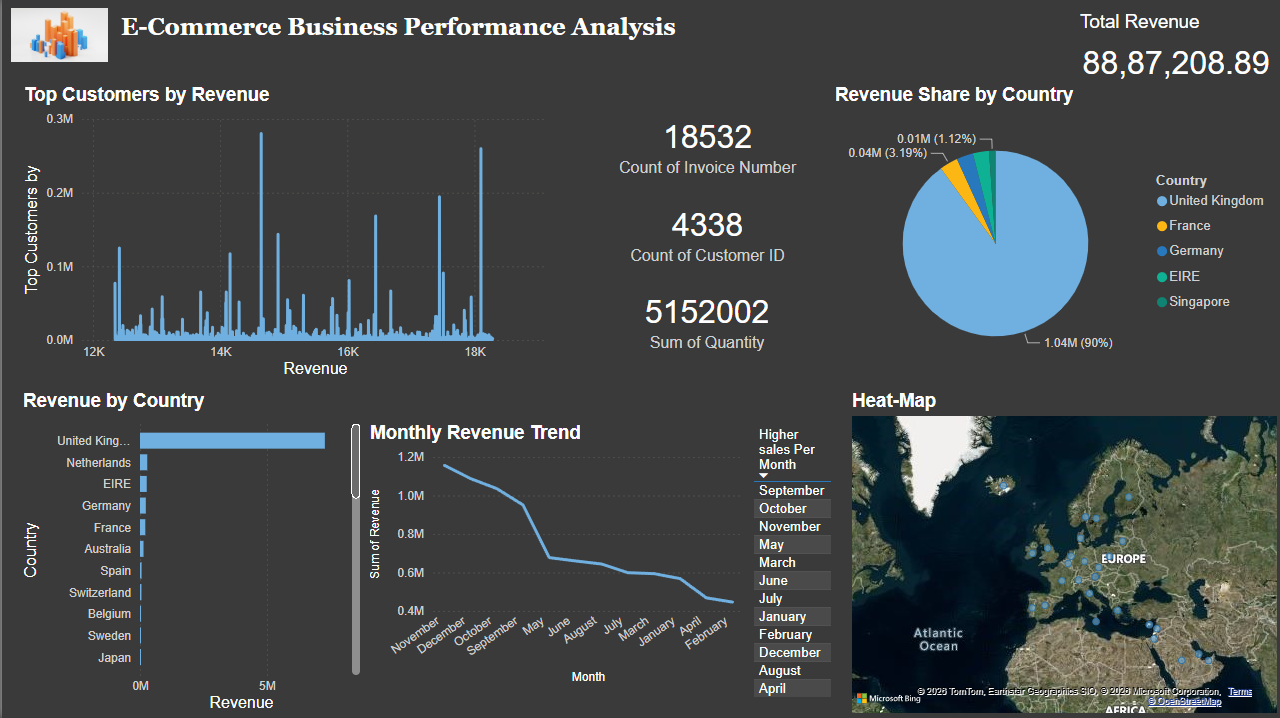

The page's visual inventory and layout, read from the dashboard file:
{"tool":"powerbi","page":{"name":"Executive Dashboard","canvas":[1280,720],"ordinal":0},"visuals":[{"type":"card","title":"Total Revenue","fields":{"Values":["Sum(4fba592e-3920-4f96-b9f4-a4c79be.Revenue)"]},"box":[1072.5,12.5,202.5,97.5],"z":0},{"type":"clusteredBarChart","fields":{"Category":["4fba592e-3920-4f96-b9f4-a4c79be.Country"],"Y":["Sum(4fba592e-3920-4f96-b9f4-a4c79be.Revenue)"]},"box":[16.3,392.1,346.8,325.8],"z":1000},{"type":"tableEx","fields":{"Values":["4fba592e-3920-4f96-b9f4-a4c79be.Month"]},"box":[746.5,423.4,98.1,294.4],"z":2000},{"type":"lineChart","title":"Top Customers  by Revenue","fields":{"Category":["4fba592e-3920-4f96-b9f4-a4c79be.Customer ID"],"Y":["Sum(4fba592e-3920-4f96-b9f4-a4c79be.Revenue)"]},"box":[16.5,86,535.9,297.7],"z":3000},{"type":"pieChart","title":"Revenue Share by Country","fields":{"Category":["4fba592e-3920-4f96-b9f4-a4c79be.Country"],"Y":["Sum(4fba592e-3920-4f96-b9f4-a4c79be.Unit Price)"]},"box":[828.1,86,447.7,297.7],"z":4000},{"type":"map","title":"Heat-Map","fields":{"Category":["4fba592e-3920-4f96-b9f4-a4c79be.Country"]},"box":[844.8,392.1,435.2,328.1],"z":5000},{"type":"textbox","box":[113.8,10,620,56.2],"z":6000},{"type":"card","fields":{"Values":["Count(4fba592e-3920-4f96-b9f4-a4c79be.Customer ID)"]},"box":[617.5,197.4,176.4,73.9],"z":7000},{"type":"card","fields":{"Values":["Count(4fba592e-3920-4f96-b9f4-a4c79be.Invoice Number)"]},"box":[602,107,207.3,78.3],"z":8000},{"type":"card","fields":{"Values":["Sum(4fba592e-3920-4f96-b9f4-a4c79be.Quantity)"]},"box":[626.3,281.2,157.7,79.4],"z":9000},{"type":"lineChart","title":"Monthly Revenue Trend","fields":{"Category":["4fba592e-3920-4f96-b9f4-a4c79be.Month"],"Y":["Sum(4fba592e-3920-4f96-b9f4-a4c79be.Revenue)"]},"box":[362.5,423.8,383.8,267.5],"z":10000},{"type":"image","box":[9.4,5.6,96.2,62.5],"z":10001}]}

Visuals, with their boxes in screenshot pixels (x1, y1, x2, y2), scaled from the page's 1280x720 canvas onto the 1280x718 screenshot:
"Total Revenue" card: [left=1072, top=12, right=1275, bottom=110]
clusteredBarChart - 4fba592e-3920-4f96-b9f4-a4c79be.Country x Sum(4fba592e-3920-4f96-b9f4-a4c79be.Revenue): [left=16, top=391, right=363, bottom=716]
tableEx - 4fba592e-3920-4f96-b9f4-a4c79be.Month: [left=746, top=422, right=845, bottom=716]
"Top Customers  by Revenue" lineChart: [left=16, top=86, right=552, bottom=383]
"Revenue Share by Country" pieChart: [left=828, top=86, right=1276, bottom=383]
"Heat-Map" map: [left=845, top=391, right=1279, bottom=717]
textbox: [left=114, top=10, right=734, bottom=66]
card - Count(4fba592e-3920-4f96-b9f4-a4c79be.Customer ID): [left=618, top=197, right=794, bottom=271]
card - Count(4fba592e-3920-4f96-b9f4-a4c79be.Invoice Number): [left=602, top=107, right=809, bottom=185]
card - Sum(4fba592e-3920-4f96-b9f4-a4c79be.Quantity): [left=626, top=280, right=784, bottom=360]
"Monthly Revenue Trend" lineChart: [left=362, top=423, right=746, bottom=689]
image: [left=9, top=6, right=106, bottom=68]
